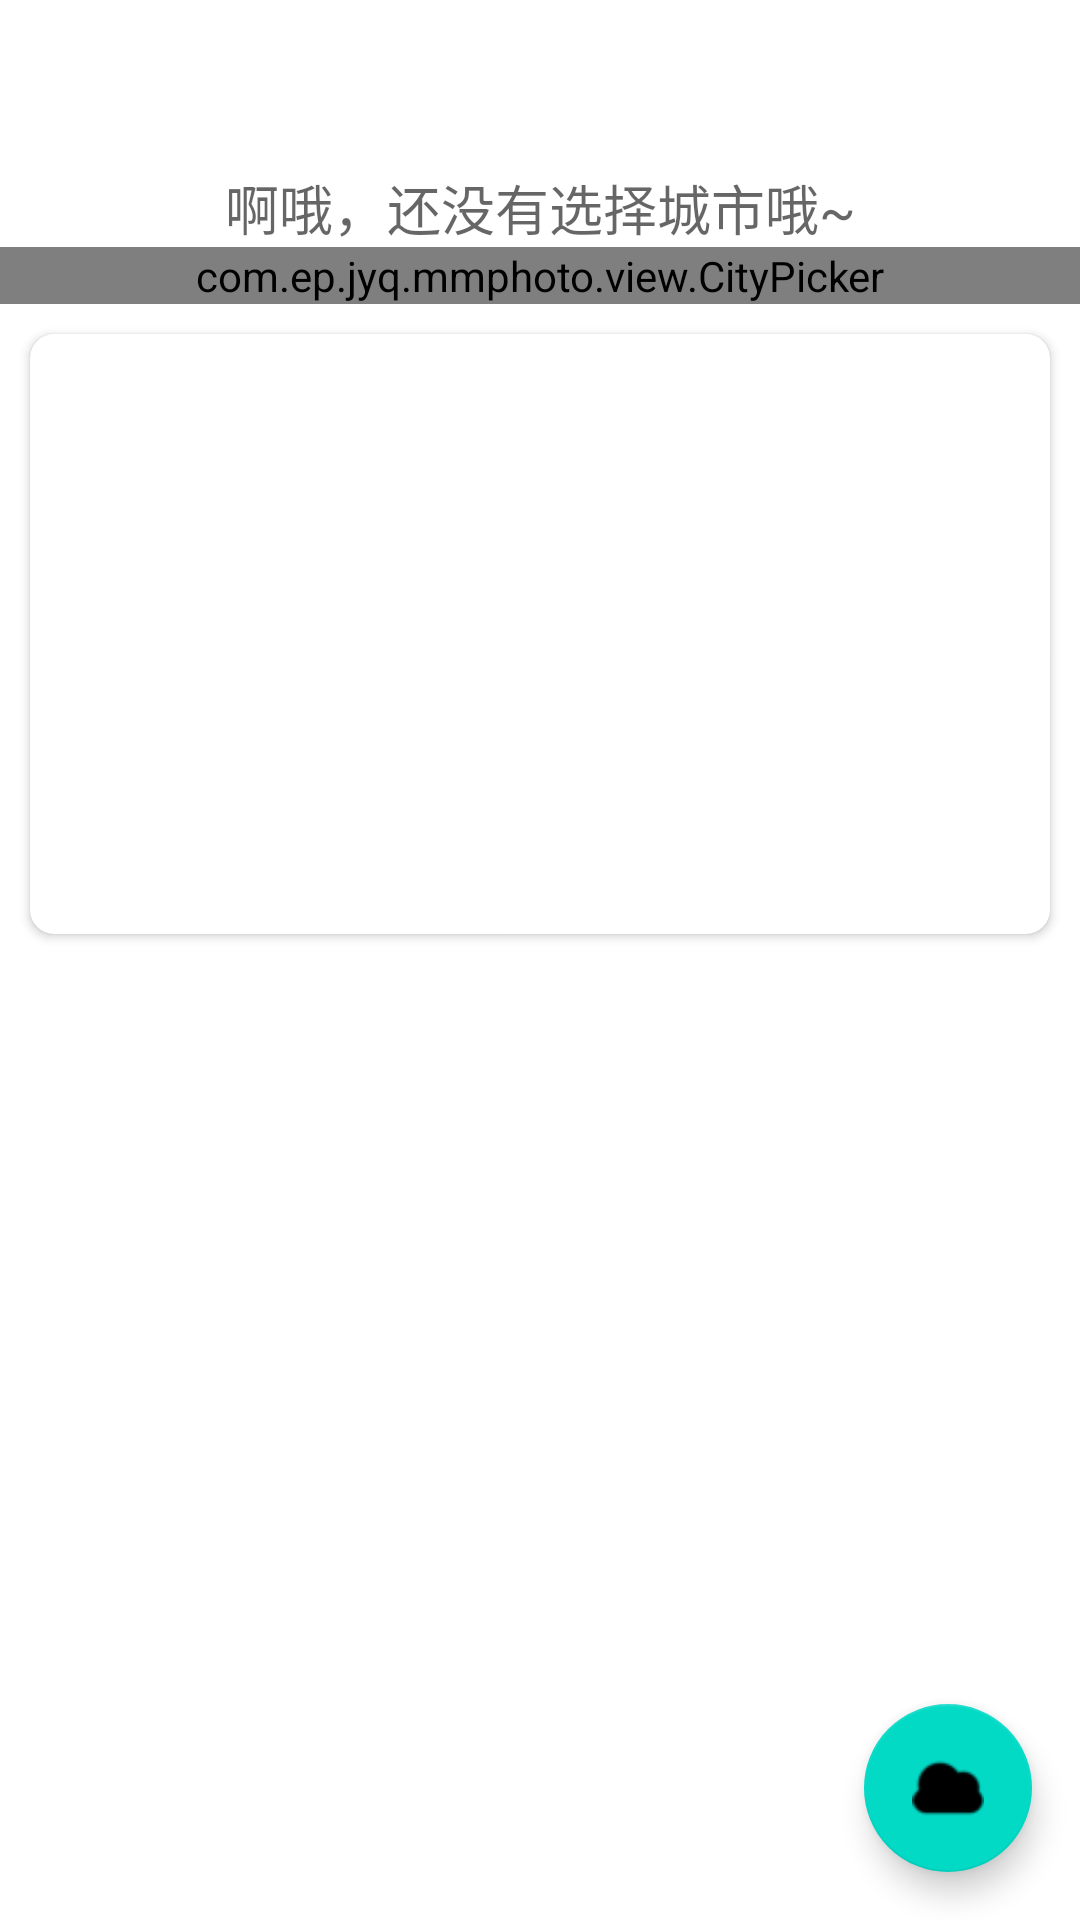

Icon bounding boxes for this 1080x1920 phone screenshot, format BBox(x1, y1, x2, y2):
wether: BBox(864, 1704, 1032, 1872)
